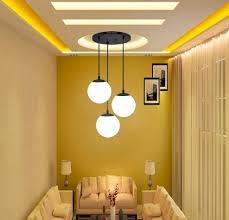light: (95, 32, 120, 142), (113, 35, 138, 122), (86, 32, 114, 108), (144, 158, 157, 189), (61, 158, 74, 189)
sofa: (77, 170, 137, 213), (25, 187, 76, 220)
table: (76, 211, 136, 220)
